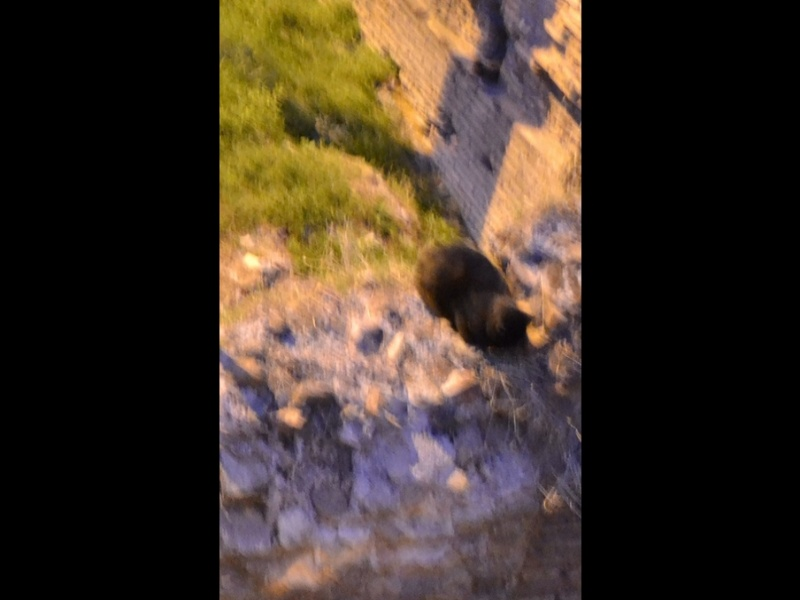cat: (411, 240, 534, 354)
